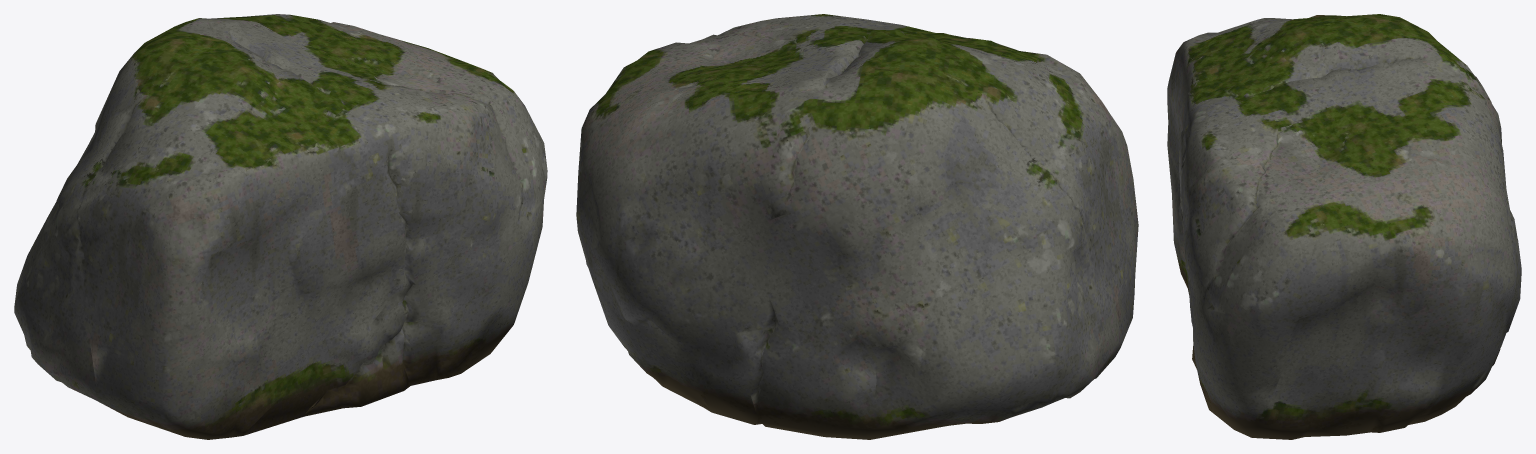
The model's file is GraniteBoulder.glb.
3 views of the same model, side by side, from view 1: azimuth 30°, elevation 25°; view 2: azimuth 150°, elevation 25°; view 3: azimuth 270°, elevation 25° (orthographic). The views are drawn at different scales.
Parts seen in each view (by area): view 1: granite-boulder; view 2: granite-boulder; view 3: granite-boulder.
Boxes of the visible parts, left/top/right/bottom form: granite-boulder: left=14, top=14, right=547, bottom=439; granite-boulder: left=576, top=14, right=1138, bottom=439; granite-boulder: left=1167, top=14, right=1521, bottom=439.
Bounding box in the file's own units: 1.56 × 0.9903 × 1.06.
Materials: 1 (1 with a texture image).
